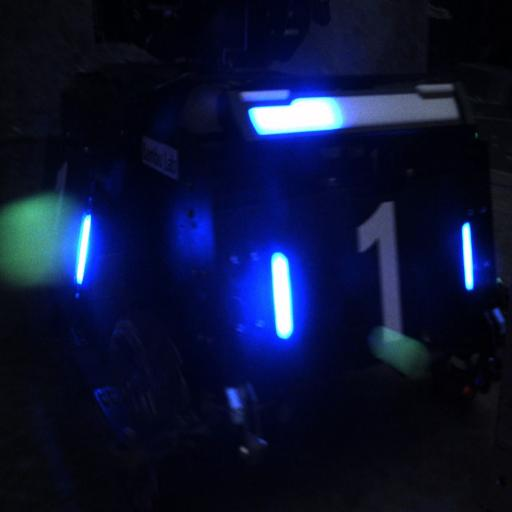target: (246, 102, 484, 397), (40, 143, 96, 304)
